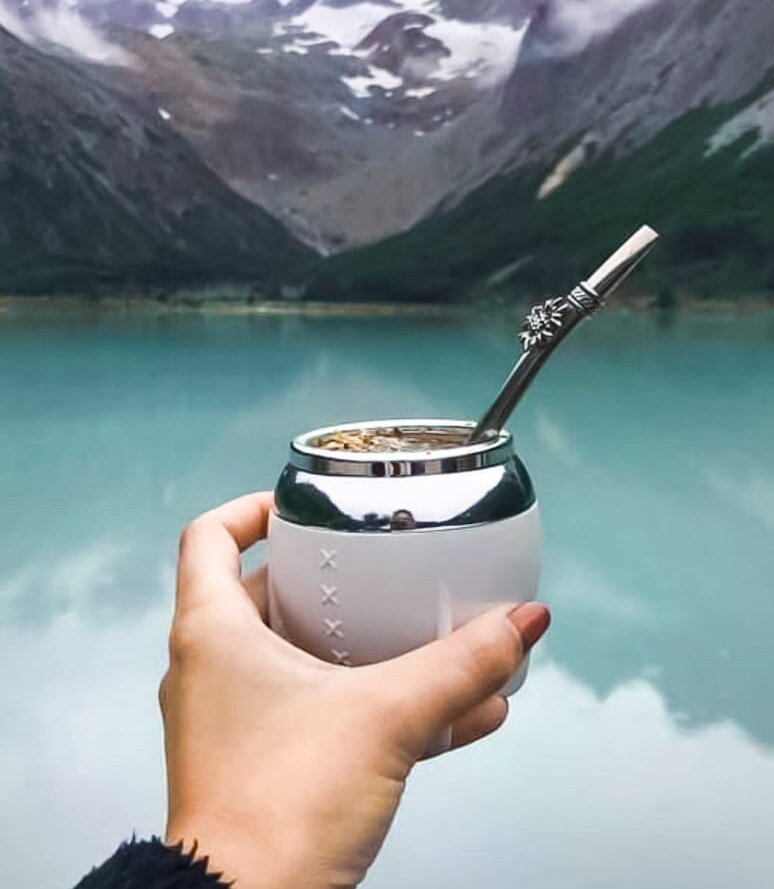mate: (257, 406, 547, 761)
plastico: (255, 404, 545, 759)
